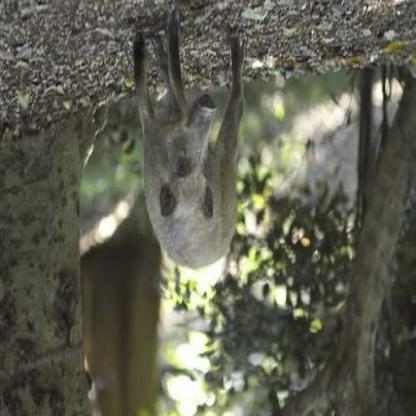boar: (116, 35, 272, 292)
